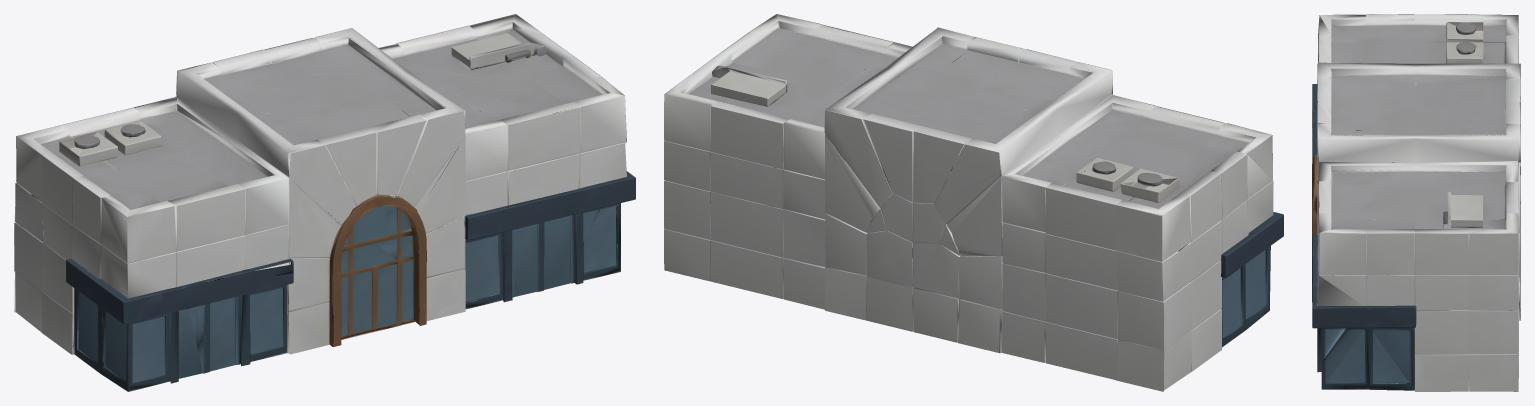
File: 13-shopping-mall.glb
3 views of the same model, side by side, from view 1: azimuth 30°, elevation 25°; view 2: azimuth 150°, elevation 25°; view 3: azimuth 270°, elevation 25° (orthographic). The views are drawn at different scales.
Parts seen in each view (by area): view 1: geometry_0; view 2: geometry_0; view 3: geometry_0.
Part boxes in pixels (x1=…): geometry_0: x1=14, y1=14, x2=635, y2=391; geometry_0: x1=664, y1=14, x2=1283, y2=391; geometry_0: x1=1312, y1=14, x2=1520, y2=391.
Bounding box in the file's own units: 0.9507 × 0.3564 × 0.3733.
1 material, 1 textured.
